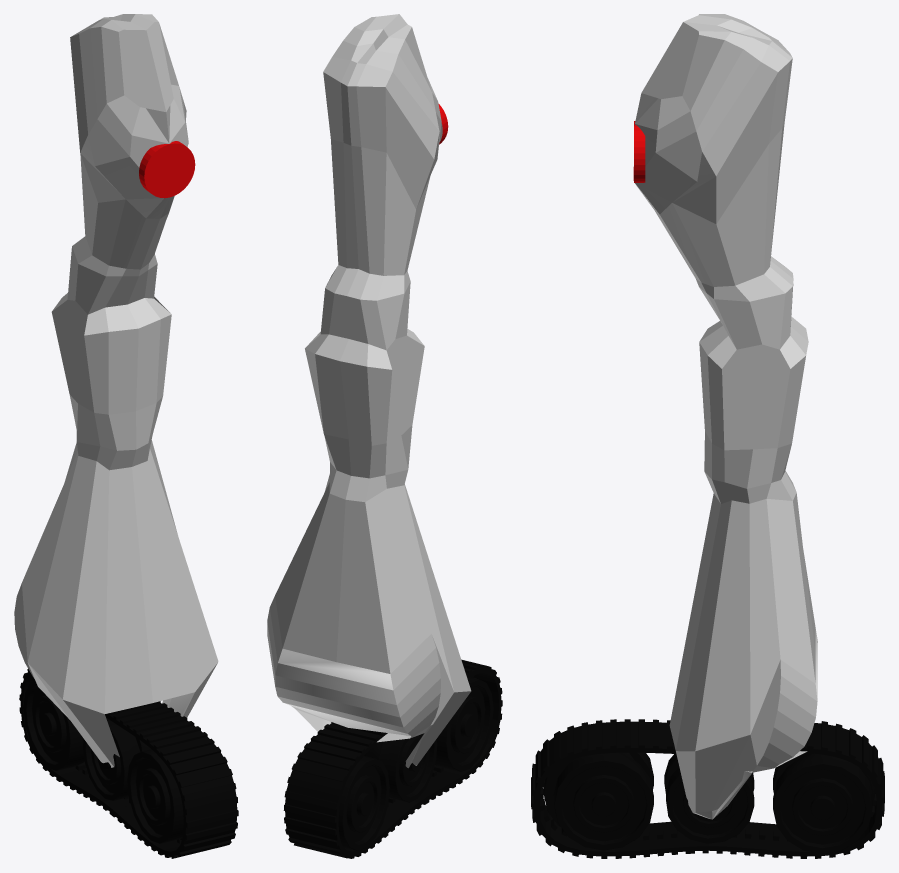
File: Heat.fbx
3 renders of one model, left to right at view 1: azimuth 30°, elevation 25°; view 2: azimuth 150°, elevation 25°; view 3: azimuth 270°, elevation 25°, orthographic. The views are drawn at different scales.
Visible parts, largest first — view 1: playermodel, Cube.008, Cube.012, playermodel.001; view 2: playermodel, Cube.008, Cube.012; view 3: playermodel, Cube.012, Cube.008, playermodel.001.
Part boxes in pixels (x1=…): playermodel: x1=14, y1=14, x2=218, y2=767; Cube.008: x1=19, y1=669, x2=238, y2=858; Cube.012: x1=23, y1=680, x2=183, y2=843; playermodel.001: x1=139, y1=141, x2=195, y2=198; playermodel: x1=267, y1=14, x2=471, y2=768; Cube.008: x1=283, y1=659, x2=502, y2=858; Cube.012: x1=285, y1=676, x2=493, y2=850; playermodel: x1=635, y1=14, x2=817, y2=819; Cube.012: x1=543, y1=752, x2=874, y2=853; Cube.008: x1=531, y1=719, x2=884, y2=858; playermodel.001: x1=633, y1=121, x2=645, y2=182.
Size of the model in its own units: 54.33 by 234 by 90.8.
